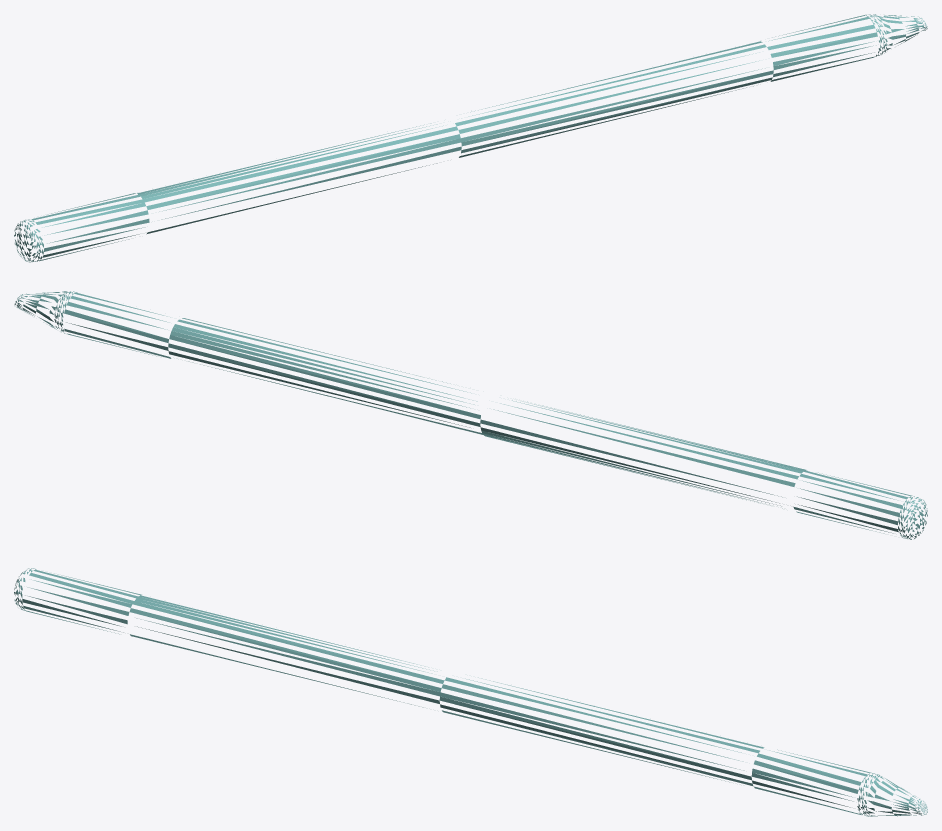
The model's file is stationery_pencil_watercolor_red_a01.glb.
3 renders of one model, top to bottom at view 1: azimuth 30°, elevation 25°; view 2: azimuth 150°, elevation 25°; view 3: azimuth 330°, elevation 25°, orthographic.
Visible parts, largest first — view 1: geometry_0; view 2: geometry_0; view 3: geometry_0.
Boxes of the visible parts, x1,y1,x2,y2 form: geometry_0: (14,14,927,262); geometry_0: (14,291,927,539); geometry_0: (14,568,927,816).
Size of the model in its own units: 0.48 by 0.0201 by 0.0201.
